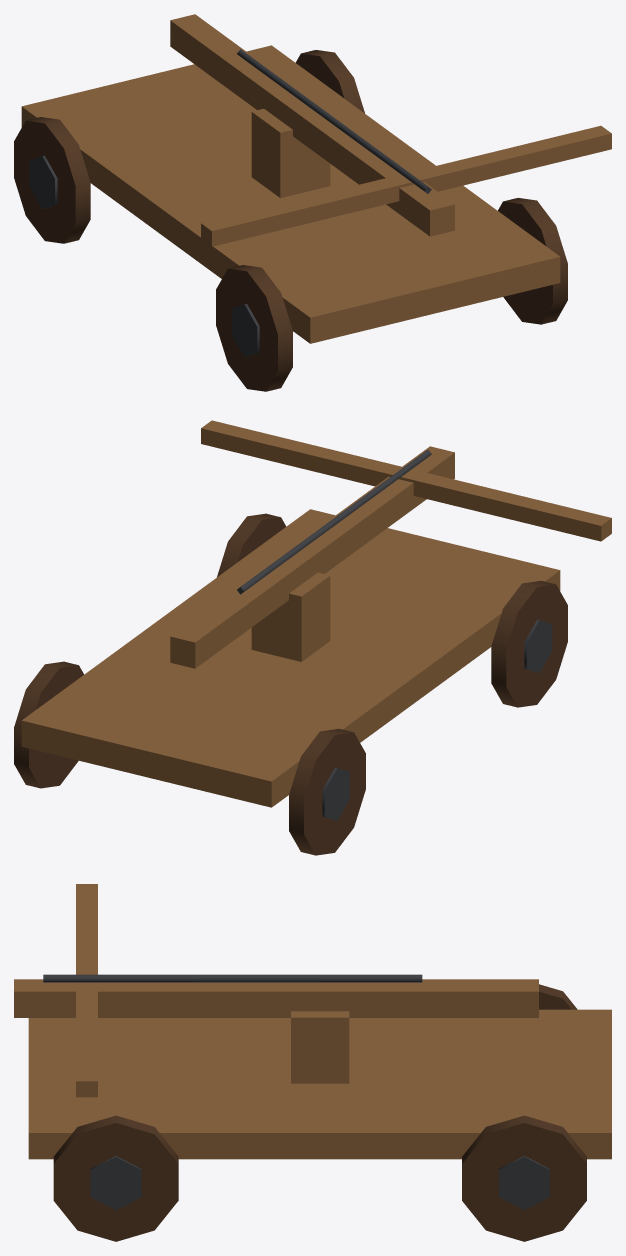
The model's file is unit_mil_ballista_a02.glb.
3 views of the same model, one above another, from view 1: azimuth 30°, elevation 25°; view 2: azimuth 150°, elevation 25°; view 3: azimuth 270°, elevation 25° (orthographic).
Visible parts, largest first — view 1: body, wheel_0, wheel_2, wheel_3, wheel_1; view 2: body, wheel_0, wheel_2, wheel_1, wheel_3; view 3: body, wheel_3, wheel_1, wheel_0.
Part boxes in pixels (<box>): body: <box>21,14,611,343</box>; wheel_0: <box>14,117,90,243</box>; wheel_2: <box>216,265,292,391</box>; wheel_3: <box>498,198,567,324</box>; wheel_1: <box>295,50,364,113</box>; body: <box>21,420,611,807</box>; wheel_0: <box>289,728,365,855</box>; wheel_2: <box>491,581,567,707</box>; wheel_1: <box>14,661,83,788</box>; wheel_3: <box>217,513,286,576</box>; body: <box>14,884,611,1159</box>; wheel_3: <box>53,1115,178,1241</box>; wheel_1: <box>462,1115,586,1241</box>; wheel_0: <box>539,984,577,1009</box>.
Size of what is drawn, in the model's own units: 3.2 by 1.48 by 4.1.
